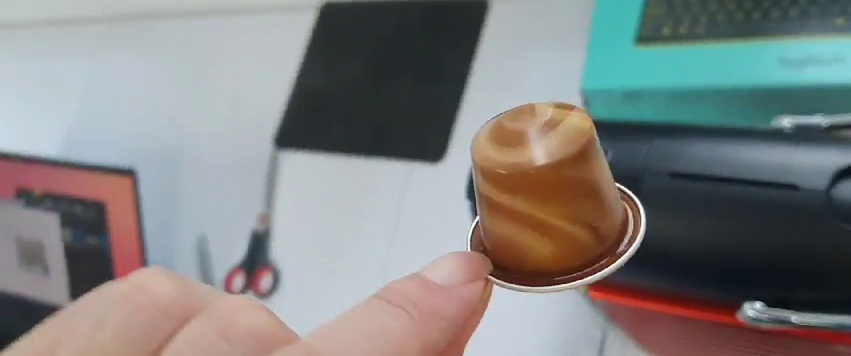capsule_12: (459, 101, 650, 290)
